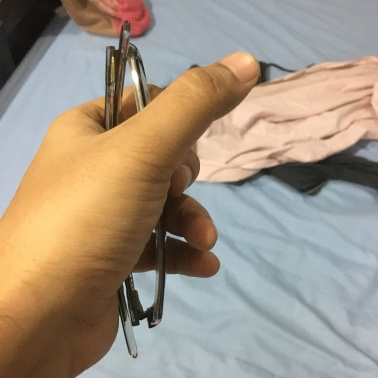glasses: (88, 52, 164, 336)
